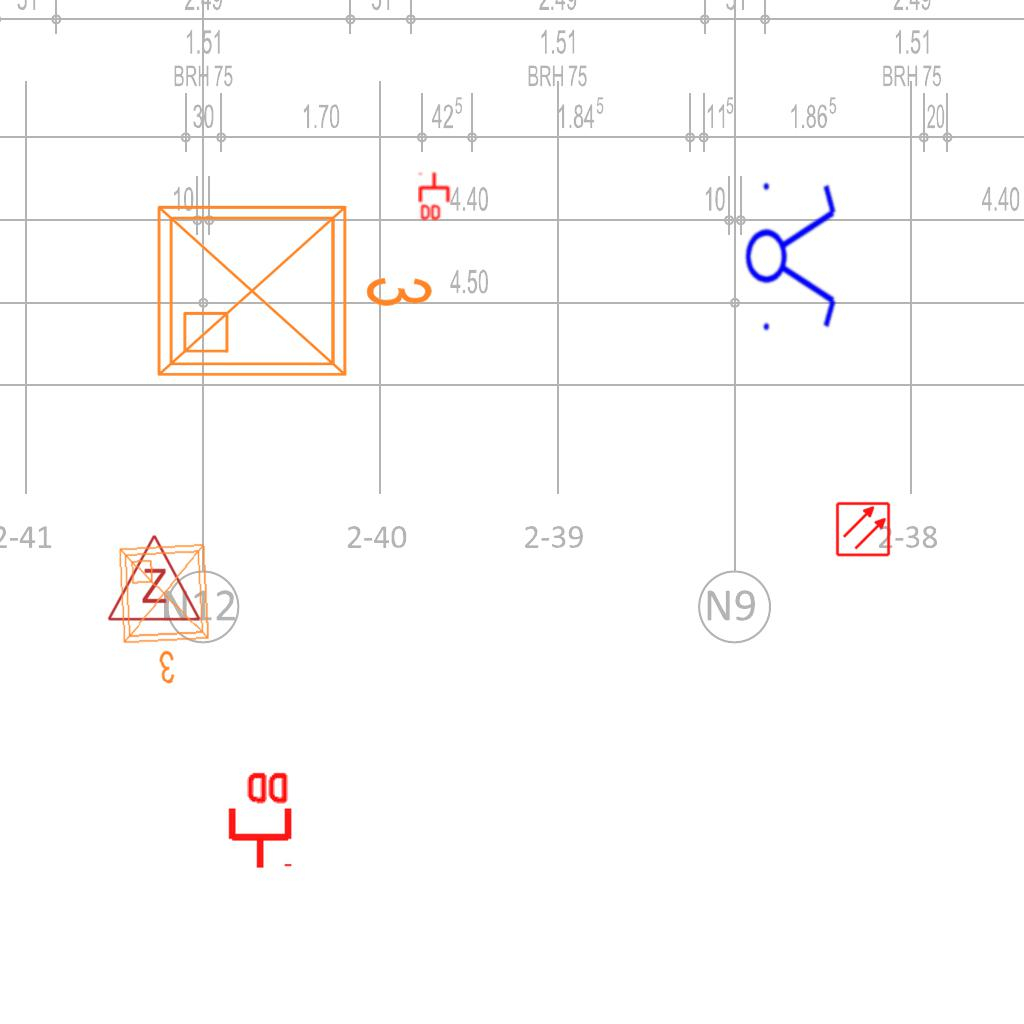Datenanschluss_zweifach: (224, 768, 293, 871), (418, 171, 452, 222)
Einbaudownlights_LED_Konferenzraeume: (143, 183, 443, 391), (111, 536, 223, 692)
RMO_Rauchmelder_optischer: (835, 501, 891, 557)
Serienschalter: (744, 171, 840, 339)
Zimmersignalleuchte: (104, 528, 202, 628)
